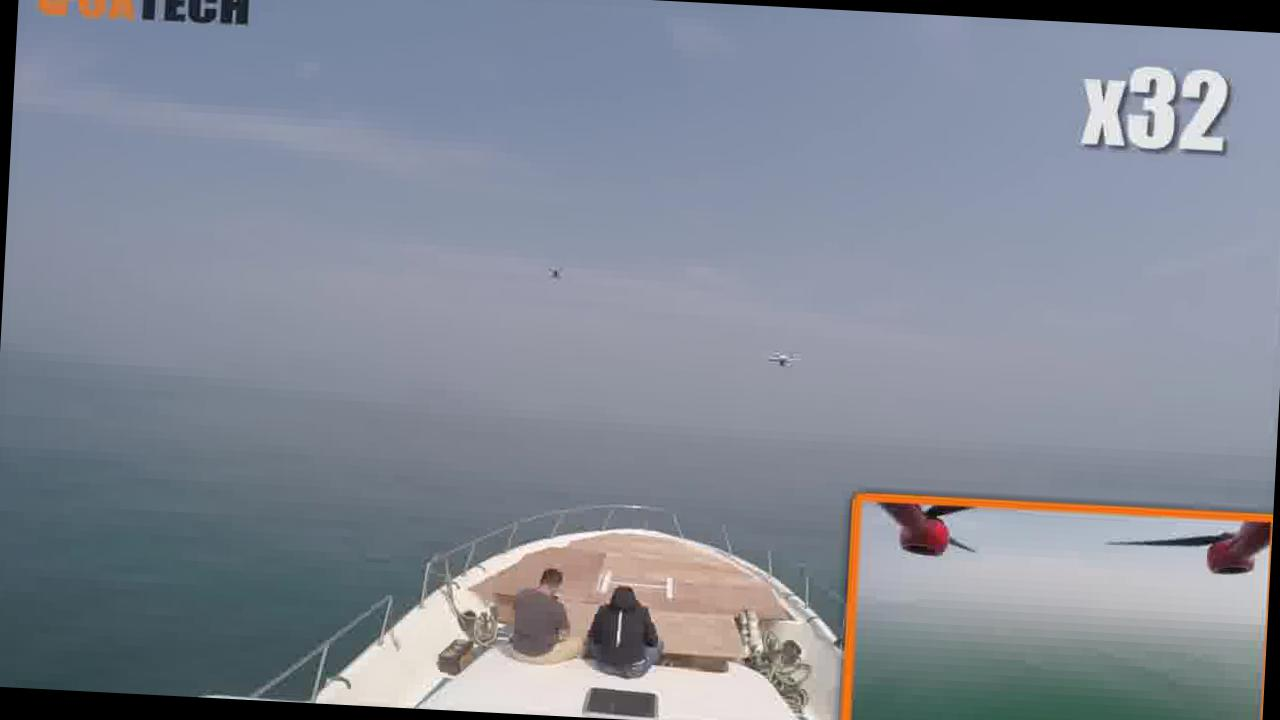drone: (766, 336, 806, 382), (540, 244, 574, 290)
